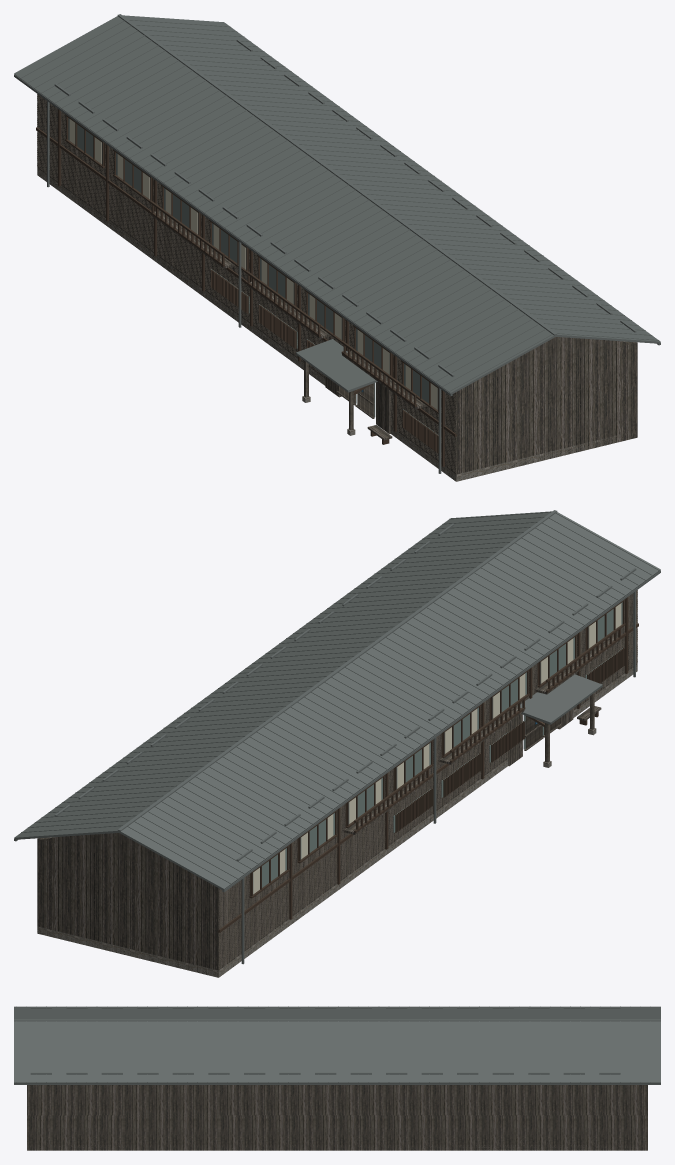
File: onsen.glb
The picture shows the model from 3 angles, top to bottom: view 1: azimuth 30°, elevation 25°; view 2: azimuth 150°, elevation 25°; view 3: azimuth 270°, elevation 25°; orthographic projection. The views are drawn at different scales.
Parts seen in each view (by area): view 1: onsen_Onsen weathered sheet metal.006, onsen_Onsen horizontal cedar.006, onsen_Dark structural timber.024, onsen_Foundation granite.024, onsen_Onsen smoked window glass.006, onsen_Onsen warm inner curtains.006; view 2: onsen_Onsen weathered sheet metal.006, onsen_Onsen horizontal cedar.006, onsen_Dark structural timber.024, onsen_Foundation granite.024, onsen_Onsen smoked window glass.006, onsen_Onsen warm inner curtains.006; view 3: onsen_Onsen weathered sheet metal.006, onsen_Onsen horizontal cedar.006.
Boxes of the visible parts, x1=… form: onsen_Onsen weathered sheet metal.006: x1=14, y1=14, x2=660, y2=473; onsen_Onsen horizontal cedar.006: x1=37, y1=94, x2=637, y2=481; onsen_Dark structural timber.024: x1=36, y1=109, x2=456, y2=466; onsen_Foundation granite.024: x1=37, y1=168, x2=629, y2=481; onsen_Onsen smoked window glass.006: x1=68, y1=118, x2=438, y2=435; onsen_Onsen warm inner curtains.006: x1=69, y1=119, x2=437, y2=409; onsen_Onsen weathered sheet metal.006: x1=14, y1=510, x2=660, y2=964; onsen_Onsen horizontal cedar.006: x1=37, y1=590, x2=637, y2=977; onsen_Dark structural timber.024: x1=217, y1=597, x2=638, y2=954; onsen_Foundation granite.024: x1=37, y1=664, x2=637, y2=977; onsen_Onsen smoked window glass.006: x1=253, y1=602, x2=622, y2=894; onsen_Onsen warm inner curtains.006: x1=253, y1=603, x2=621, y2=893; onsen_Onsen weathered sheet metal.006: x1=14, y1=1006, x2=660, y2=1084; onsen_Onsen horizontal cedar.006: x1=27, y1=1085, x2=647, y2=1150.
Size of the model in its own units: 16.8 by 9.12 by 54.61.
9 materials, 2 textured.
